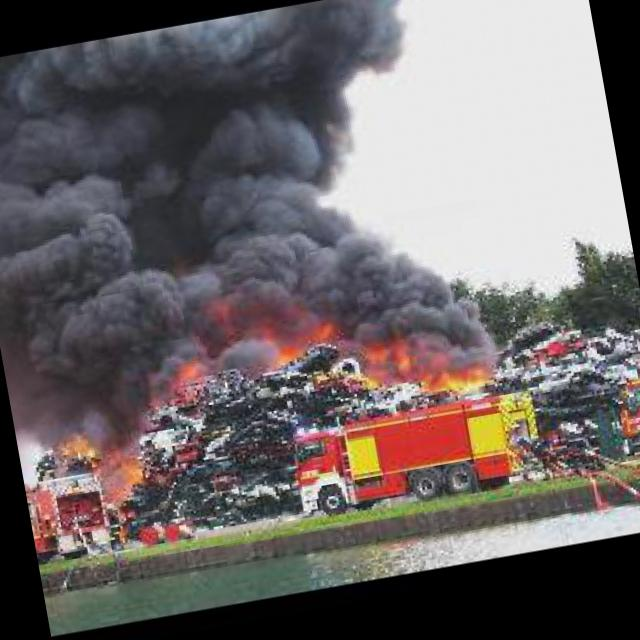fire: (350, 318, 505, 414), (56, 418, 152, 527), (253, 309, 344, 380), (136, 356, 219, 418)
smoke: (0, 0, 493, 442)
